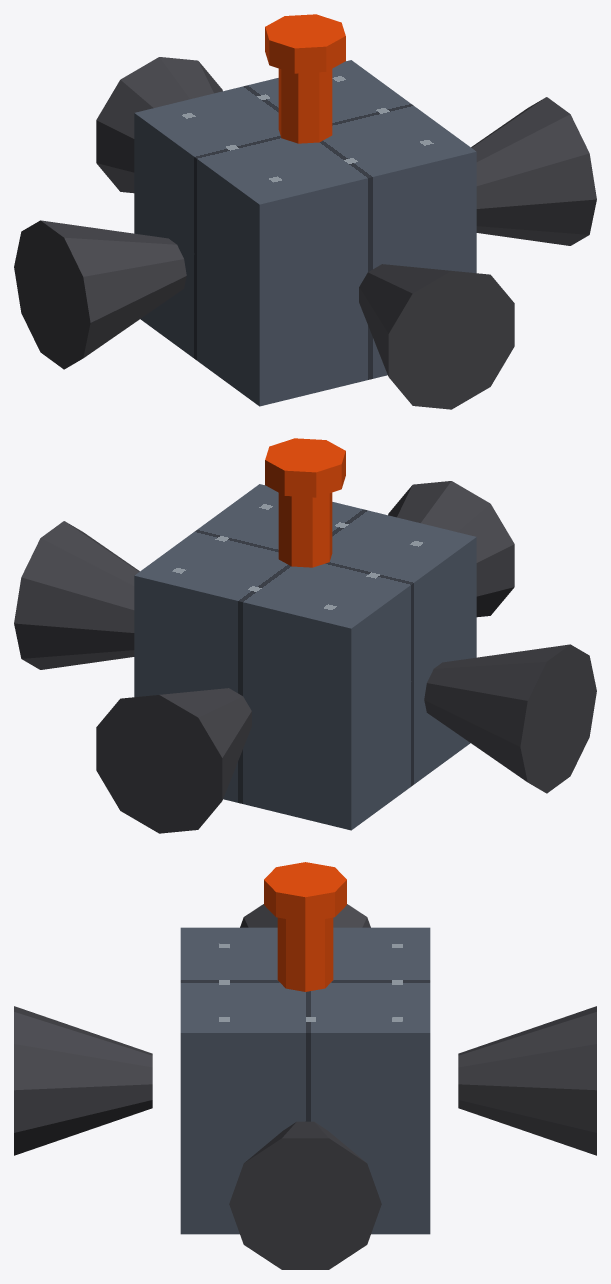
File: rcs_thruster.glb
The picture shows the model from 3 angles, top to bottom: view 1: azimuth 30°, elevation 25°; view 2: azimuth 150°, elevation 25°; view 3: azimuth 270°, elevation 25°; orthographic projection.
Parts seen in each view (by area): view 1: rcs_thruster; view 2: rcs_thruster; view 3: rcs_thruster.
Part boxes in pixels (bbox=[...]): rcs_thruster: bbox=[14, 14, 596, 409]; rcs_thruster: bbox=[14, 438, 596, 833]; rcs_thruster: bbox=[14, 862, 596, 1269].
Bounding box in the file's own units: 0.42 × 0.24 × 0.42.
3 materials, 2 textured.
